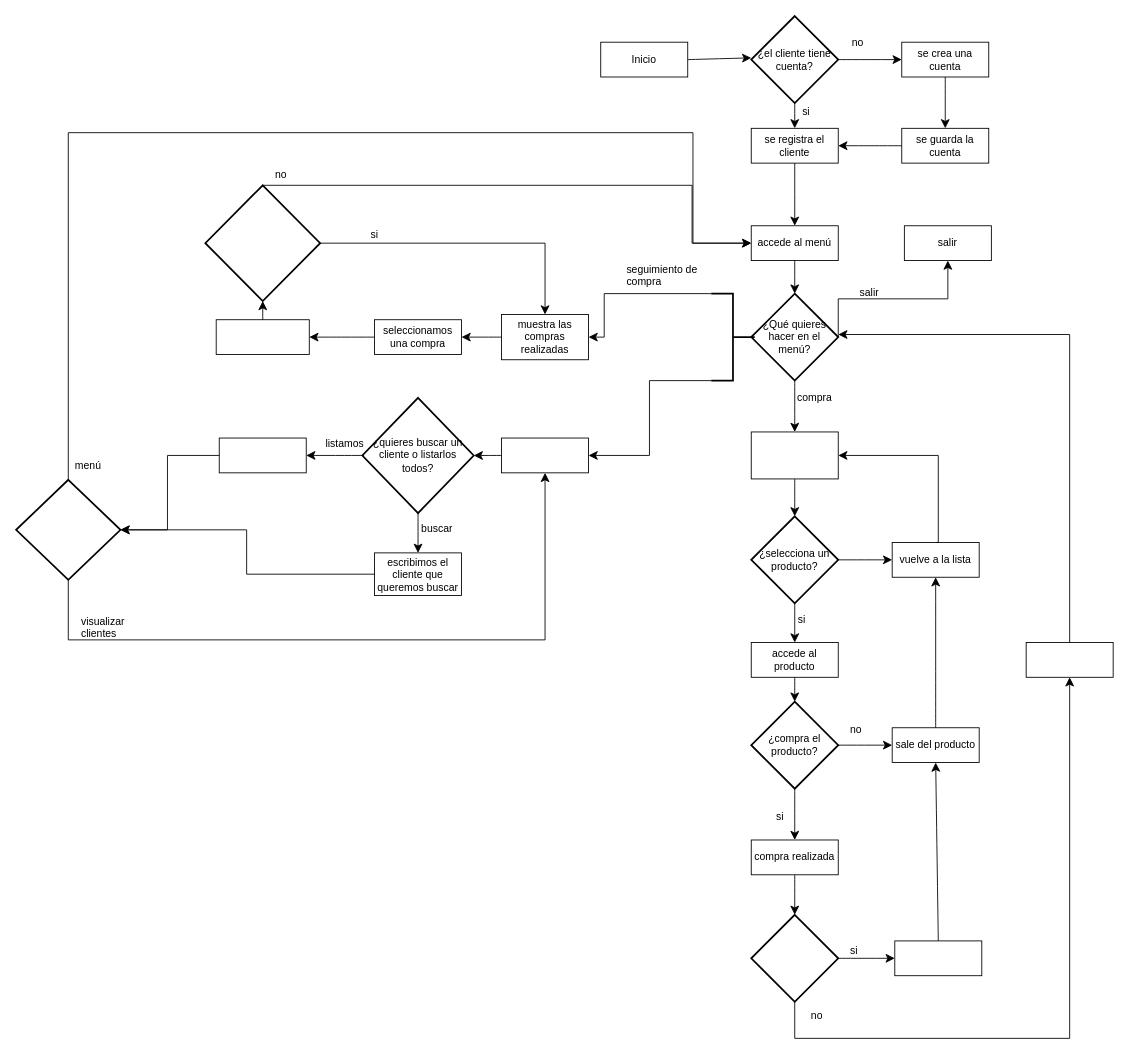
Some shapes in this 1128 by 1062 pixel diagram are drawn without their labels. The shapes that lost their labels are listed below. From the top down, each one's box as (x1, y1, x2, y2) in pixels, then its label:
(204, 184, 321, 301): ¿Quieres ver otro compra realizada?
(215, 319, 309, 355): vemos como va el pedido
(218, 437, 306, 473): listamos todos los clientes
(501, 437, 589, 473): visualización de clientes
(750, 431, 838, 479): accede a la lista de productos en ventas
(15, 478, 121, 580): quieres volver al menú o a visualizar clientes
(1025, 642, 1113, 677): volvemos al menú
(750, 914, 839, 1002): ¿quieres seguir comprando?
(894, 940, 982, 976): sale de la pantalla de compra
